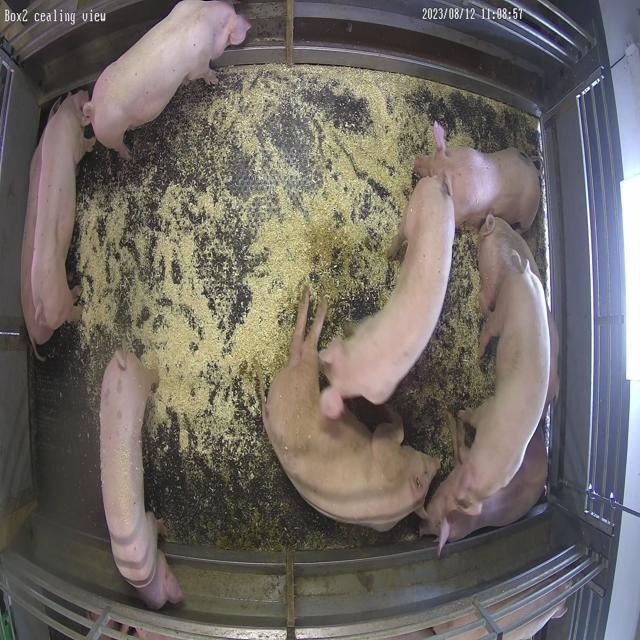Dirt: (192, 458, 343, 552), (305, 211, 357, 304)
Pig: (263, 289, 441, 532), (320, 177, 456, 418), (430, 265, 551, 530), (83, 2, 250, 158), (100, 351, 183, 610), (20, 90, 95, 346), (415, 121, 542, 232), (450, 425, 549, 542), (479, 215, 541, 312), (548, 303, 561, 404)
